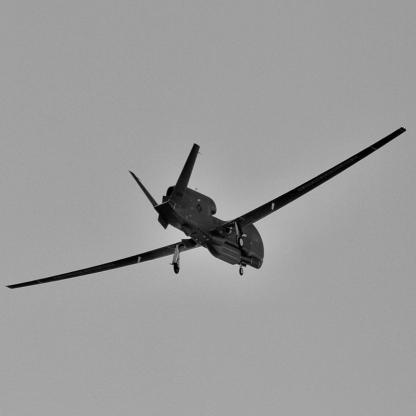RQ4: (5, 127, 408, 291)
